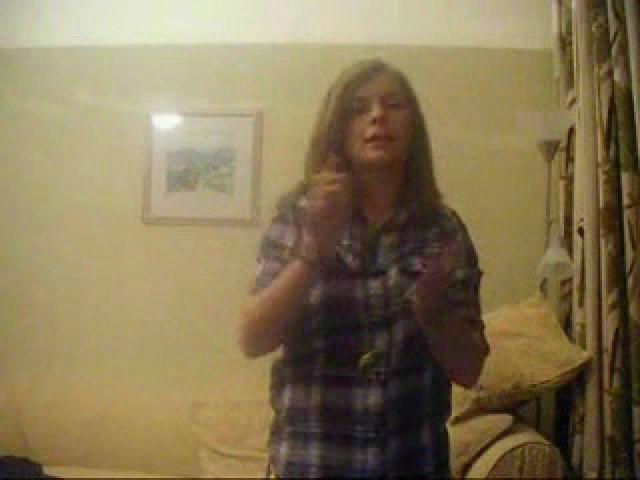F: (244, 59, 488, 479)
